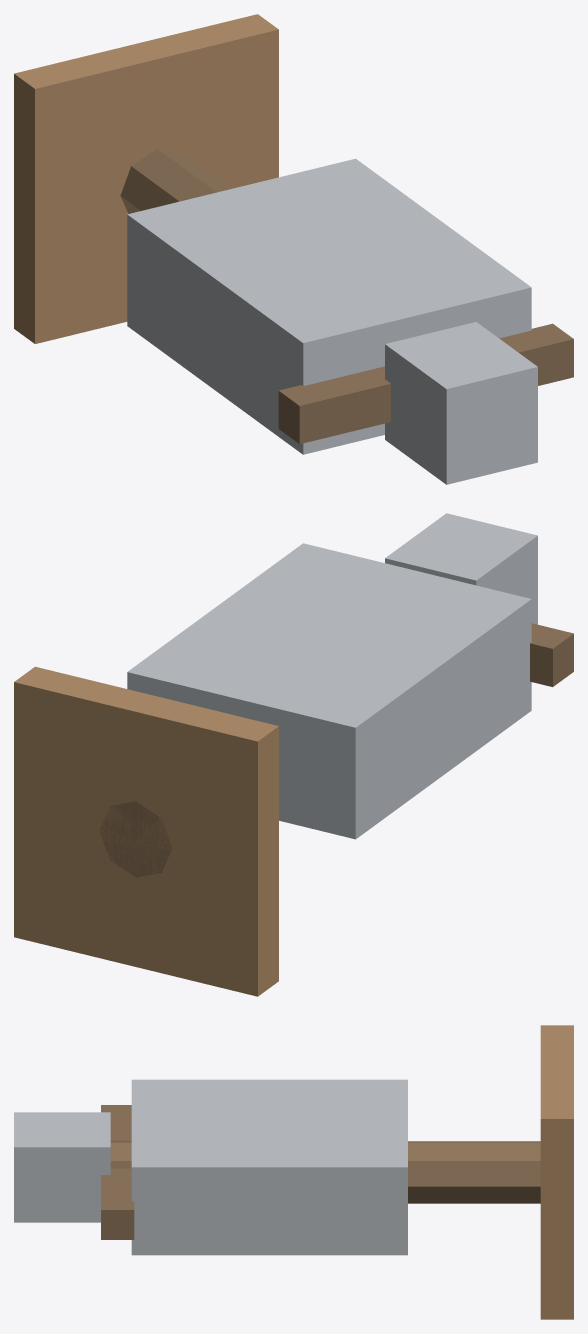
The model's file is shop_armor_stand.glb.
3 views of the same model, one above another, from view 1: azimuth 30°, elevation 25°; view 2: azimuth 150°, elevation 25°; view 3: azimuth 270°, elevation 25° (orthographic). The views are drawn at different scales.
Visible parts, largest first — view 1: chestplate, base, helmet, crossbar, pole; view 2: base, chestplate, helmet, pole, crossbar; view 3: chestplate, helmet, base, pole, crossbar.
Boxes of the visible parts, bbox=[...] form: chestplate: bbox=[127, 158, 531, 454]; base: bbox=[14, 14, 278, 343]; helmet: bbox=[385, 322, 537, 484]; crossbar: bbox=[278, 323, 573, 444]; pole: bbox=[120, 148, 230, 213]; base: bbox=[14, 666, 278, 996]; chestplate: bbox=[127, 543, 531, 839]; helmet: bbox=[385, 513, 537, 624]; pole: bbox=[99, 801, 172, 877]; crossbar: bbox=[530, 623, 573, 686]; chestplate: bbox=[131, 1079, 407, 1255]; helmet: bbox=[14, 1112, 110, 1222]; base: bbox=[540, 1025, 573, 1319]; pole: bbox=[110, 1141, 540, 1203]; crossbar: bbox=[101, 1105, 134, 1239].
Bounding box in the file's own units: 0.9 × 0.8 × 2.03.
